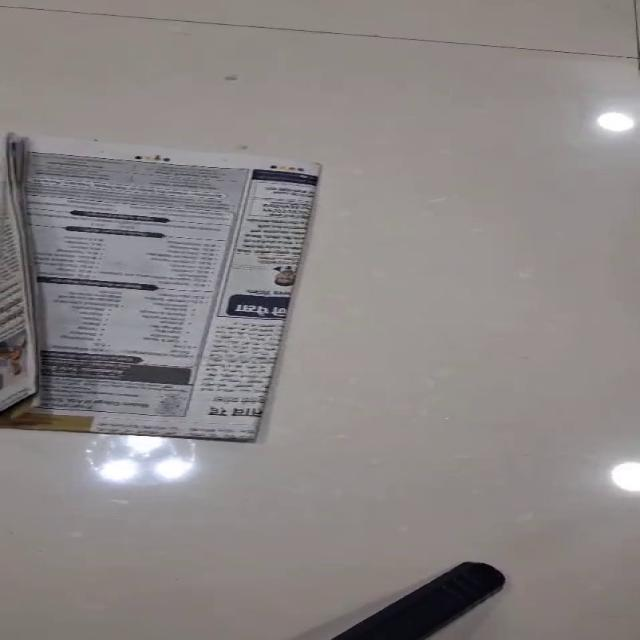paper: (6, 132, 322, 442)
